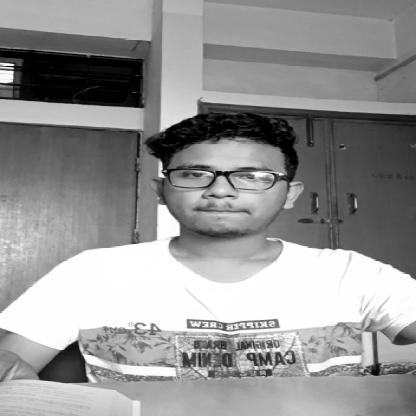Normal: (152, 142, 281, 232)
